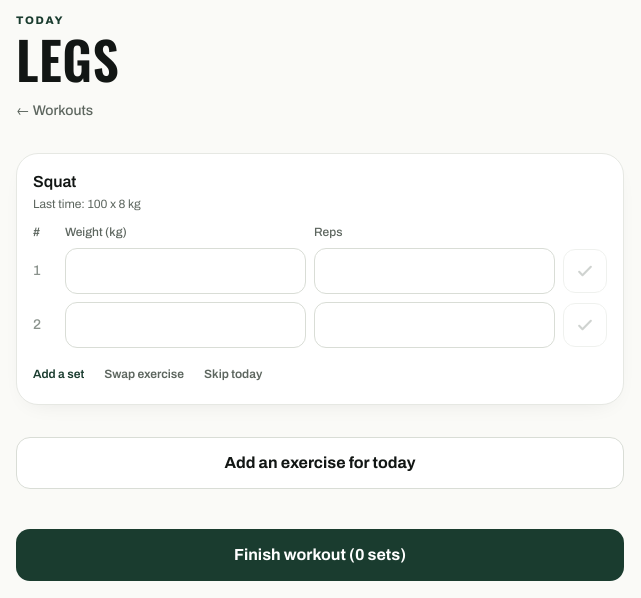
finishing › is kind about a workout with nothing logged
Click the button "Finish workout (0 sets)".
click(320, 555)  # box [16, 529, 624, 581]
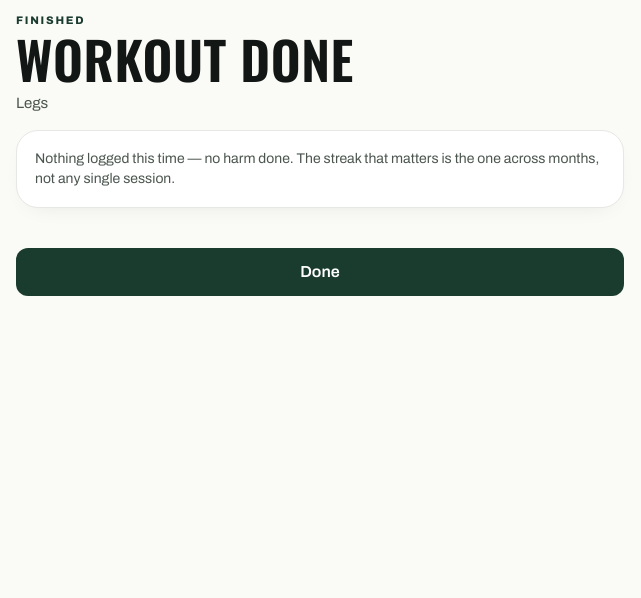
Result: the text "Nothing logged this time" is shown at [35, 151, 599, 186]
